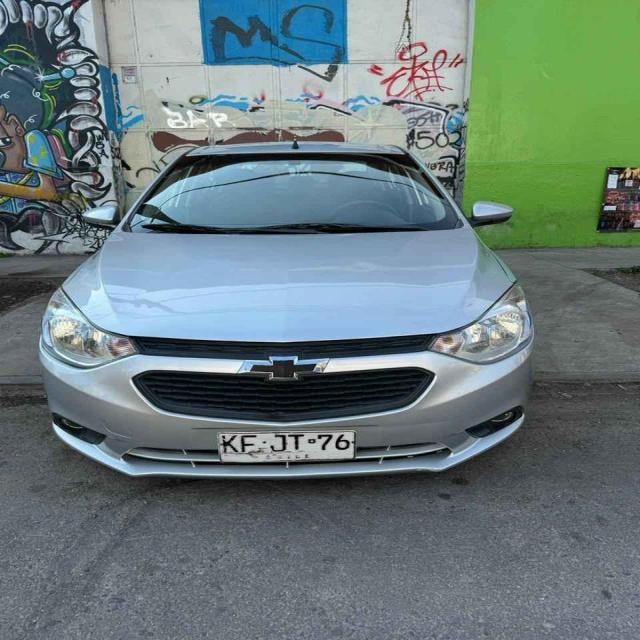patente: (215, 429, 357, 464)
